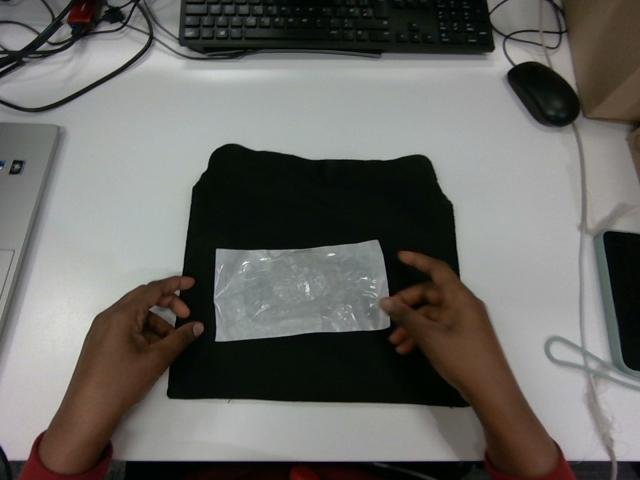gallipot: (214, 240, 389, 341)
